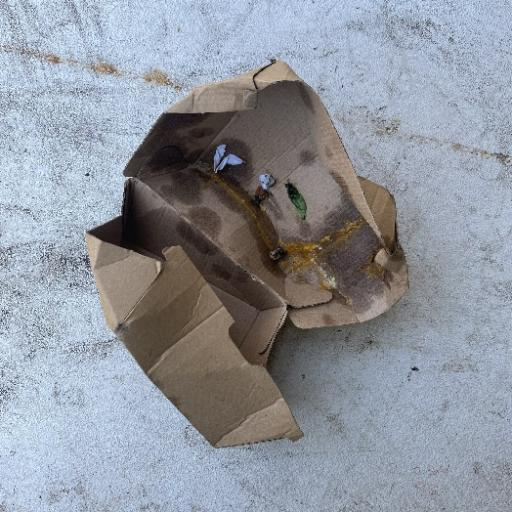Cardboard: (83, 58, 411, 450)
